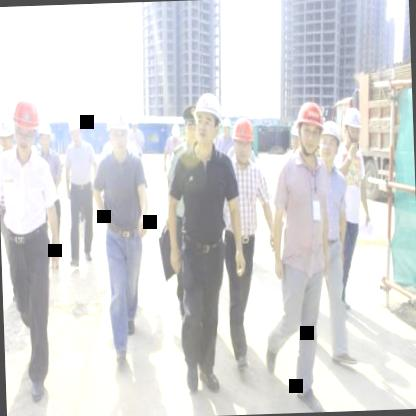head: (180, 100, 202, 152)
helmet: (10, 94, 40, 161), (296, 99, 325, 157), (196, 94, 226, 147), (104, 104, 132, 156), (228, 113, 256, 164), (318, 120, 343, 168), (344, 103, 366, 147), (36, 118, 54, 156), (0, 110, 15, 154), (286, 119, 302, 160), (66, 112, 84, 148), (168, 121, 182, 146), (223, 114, 234, 140)
